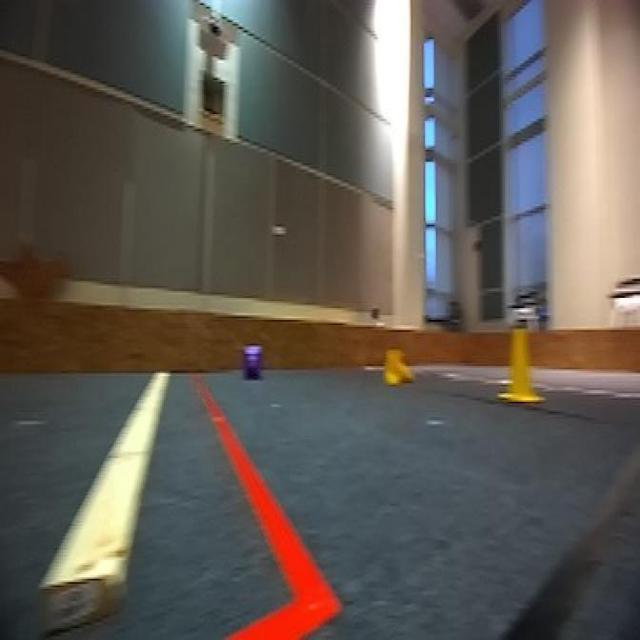frc_cone: (497, 322, 542, 405), (379, 344, 418, 388)
frc_cube: (242, 346, 263, 381)
